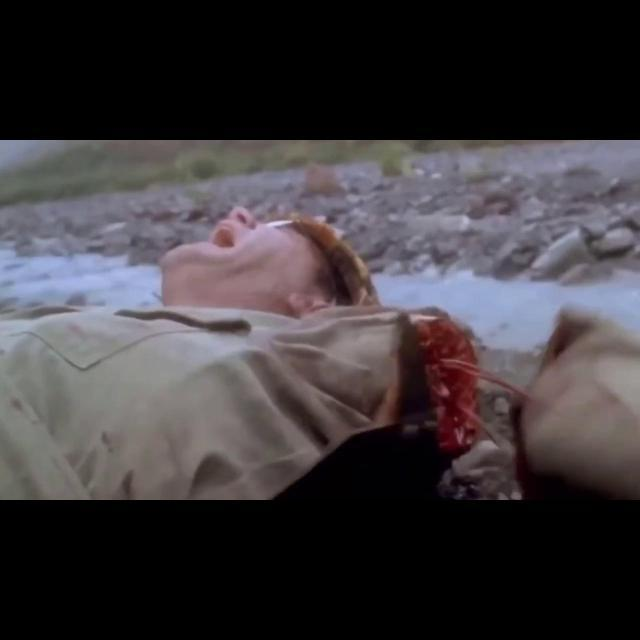blood: (396, 313, 542, 499), (540, 310, 599, 376), (388, 380, 400, 423)
